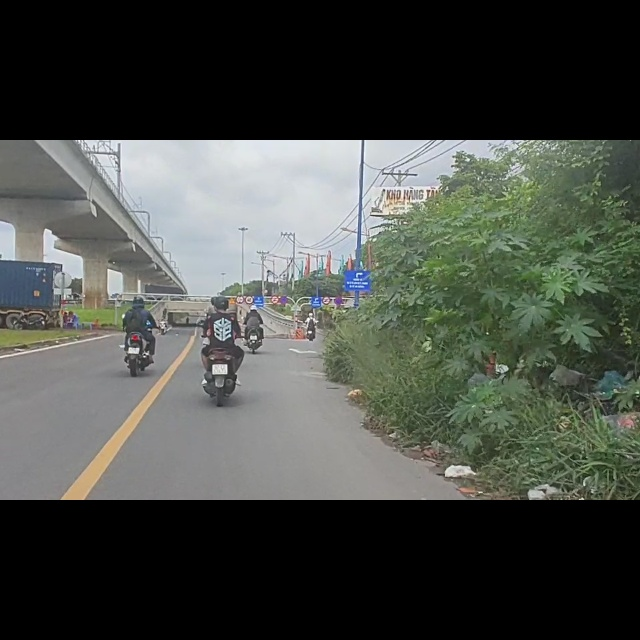bien_cam: (279, 276, 289, 293), (334, 277, 344, 293), (245, 275, 253, 293), (270, 276, 279, 292), (323, 277, 331, 292), (236, 276, 244, 290)
